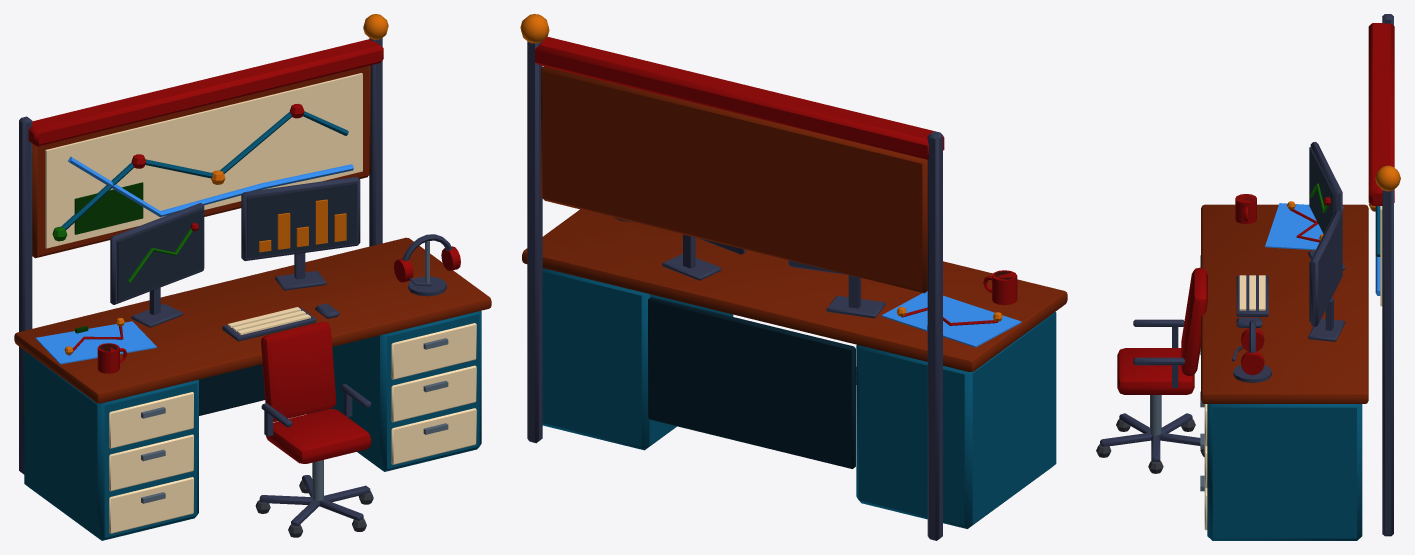
Rendered from DispatchDesk.obj.
3 views of the same model, side by side, from view 1: azimuth 30°, elevation 25°; view 2: azimuth 150°, elevation 25°; view 3: azimuth 270°, elevation 25° (orthographic). The views are drawn at different scales.
Parts seen in each view (by area): view 1: DispatchDesk; view 2: DispatchDesk; view 3: DispatchDesk.
Boxes of the visible parts, x1,y1,x2,y2 form: DispatchDesk: [14, 14, 491, 540]; DispatchDesk: [520, 14, 1067, 540]; DispatchDesk: [1096, 14, 1400, 540].
Size of the model in its own units: 7 by 6.3 by 4.73.
